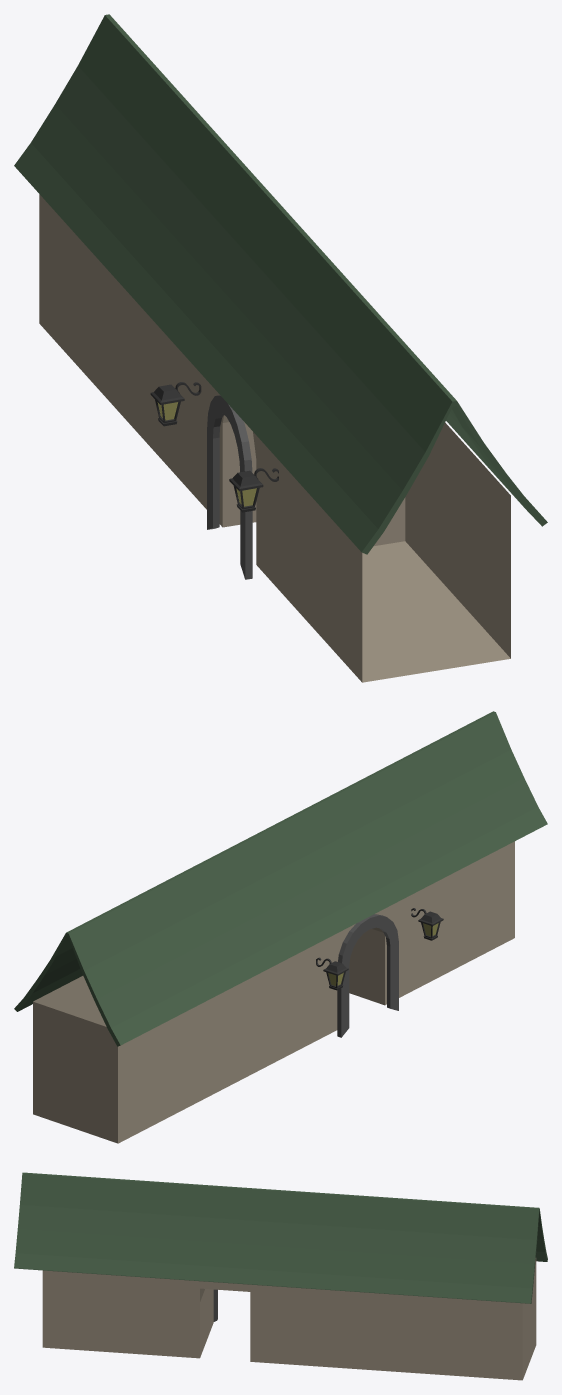
Rendered from wall.fbx.
3 renders of one model, top to bottom at view 1: azimuth 30°, elevation 25°; view 2: azimuth 150°, elevation 25°; view 3: azimuth 270°, elevation 25°, orthographic. The views are drawn at different scales.
Parts seen in each view (by area): view 1: wall1; view 2: wall1; view 3: wall1.
Part boxes in pixels (left/top/right/bottom): wall1: left=14, top=14, right=547, bottom=682; wall1: left=14, top=711, right=547, bottom=1143; wall1: left=14, top=1172, right=547, bottom=1380.
Size of the model in its own units: 374 by 347 by 1056.
